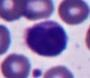L: (22, 22, 68, 56)
